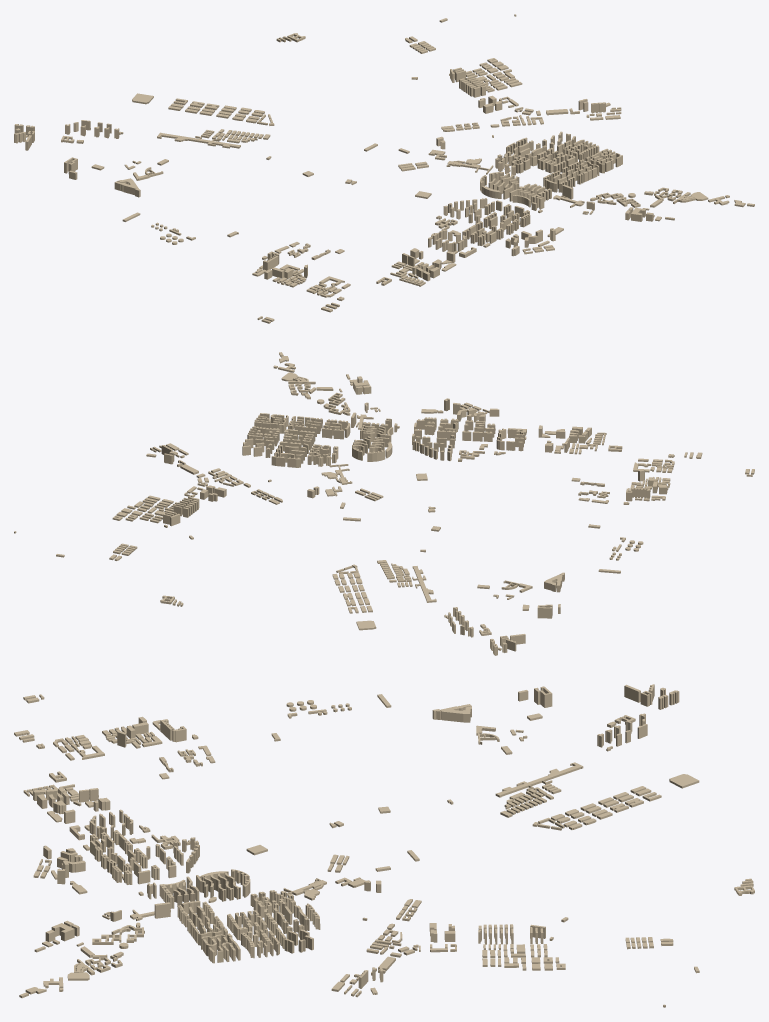
Rendered from overview-estimated--5_2.glb.
3 renders of one model, top to bottom at view 1: azimuth 30°, elevation 25°; view 2: azimuth 150°, elevation 25°; view 3: azimuth 270°, elevation 25°, orthographic. The views are drawn at different scales.
Bounding box in the file's own units: 3976 × 79.02 × 3987.
